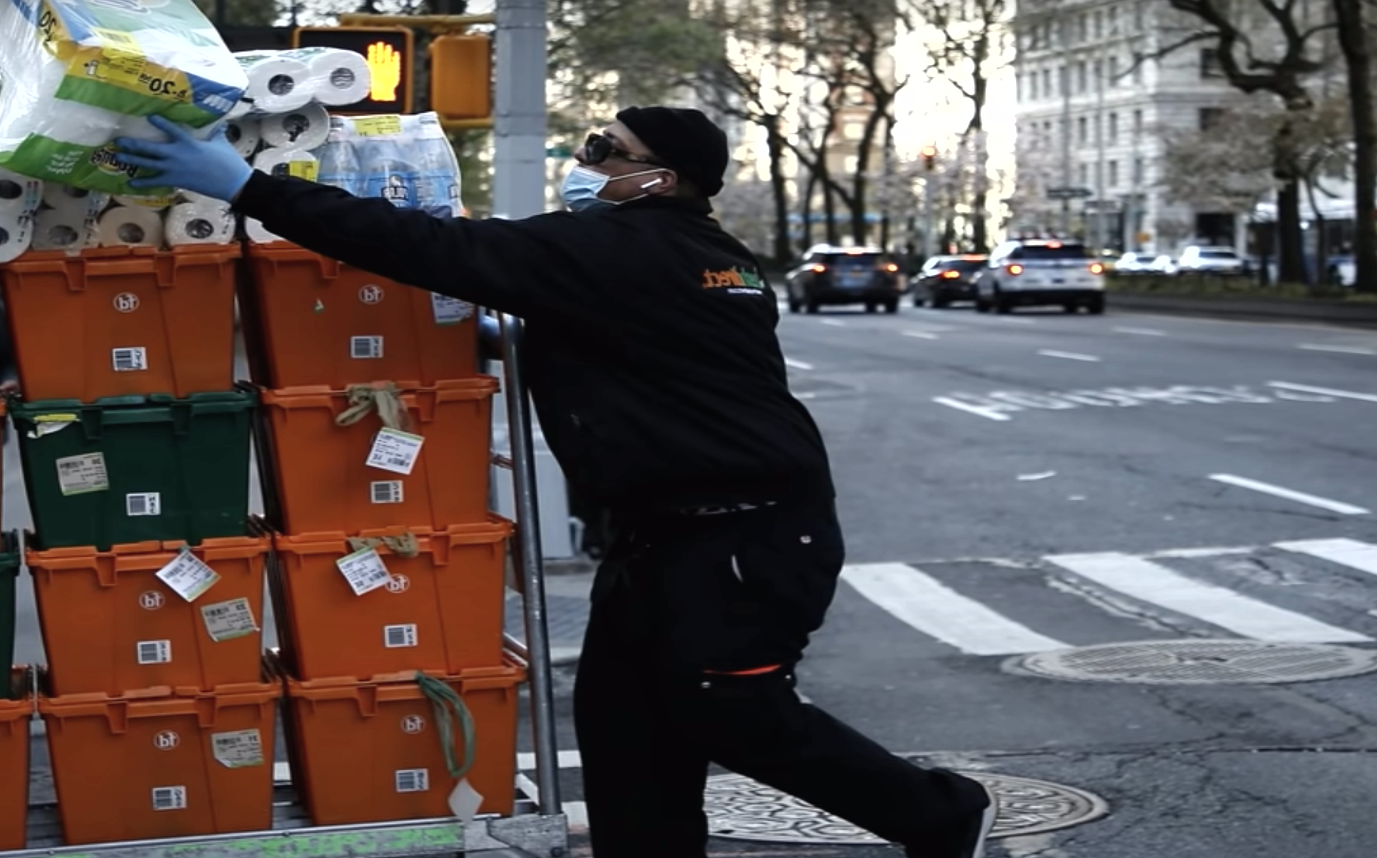mask_weared_incorrect: (558, 104, 725, 217)
